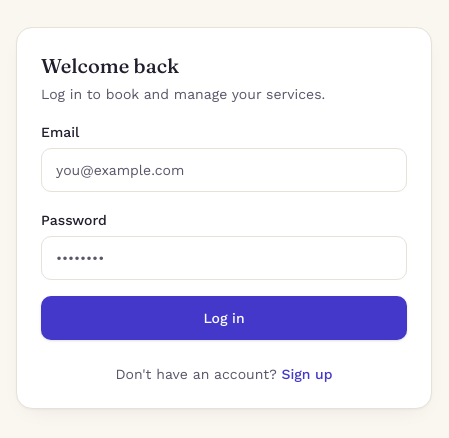
Test: LoginPage › rejects an invalid email format
The image size is (449, 438).
In the field labelled "Email": (224, 170) x1=41 y1=148 x2=407 y2=192, type "not-an-email"
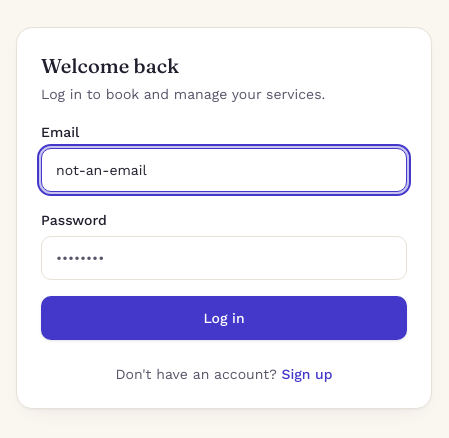
In the password field labelled "Password": (224, 258) x1=41 y1=236 x2=407 y2=280, type "somepassword"
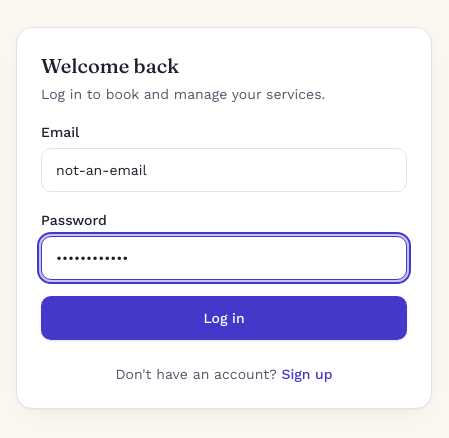
Click the button "Log in": (224, 318) x1=41 y1=296 x2=407 y2=340
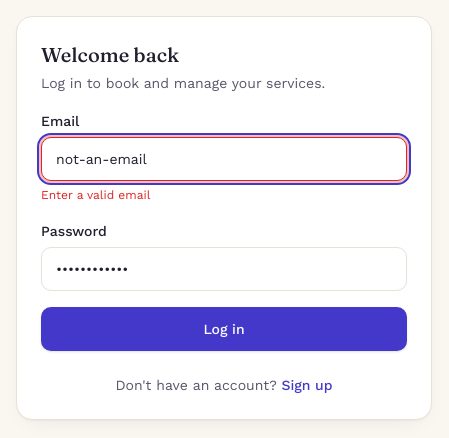
Result: the text "Enter a valid email" is shown at x1=41 y1=188 x2=150 y2=202
